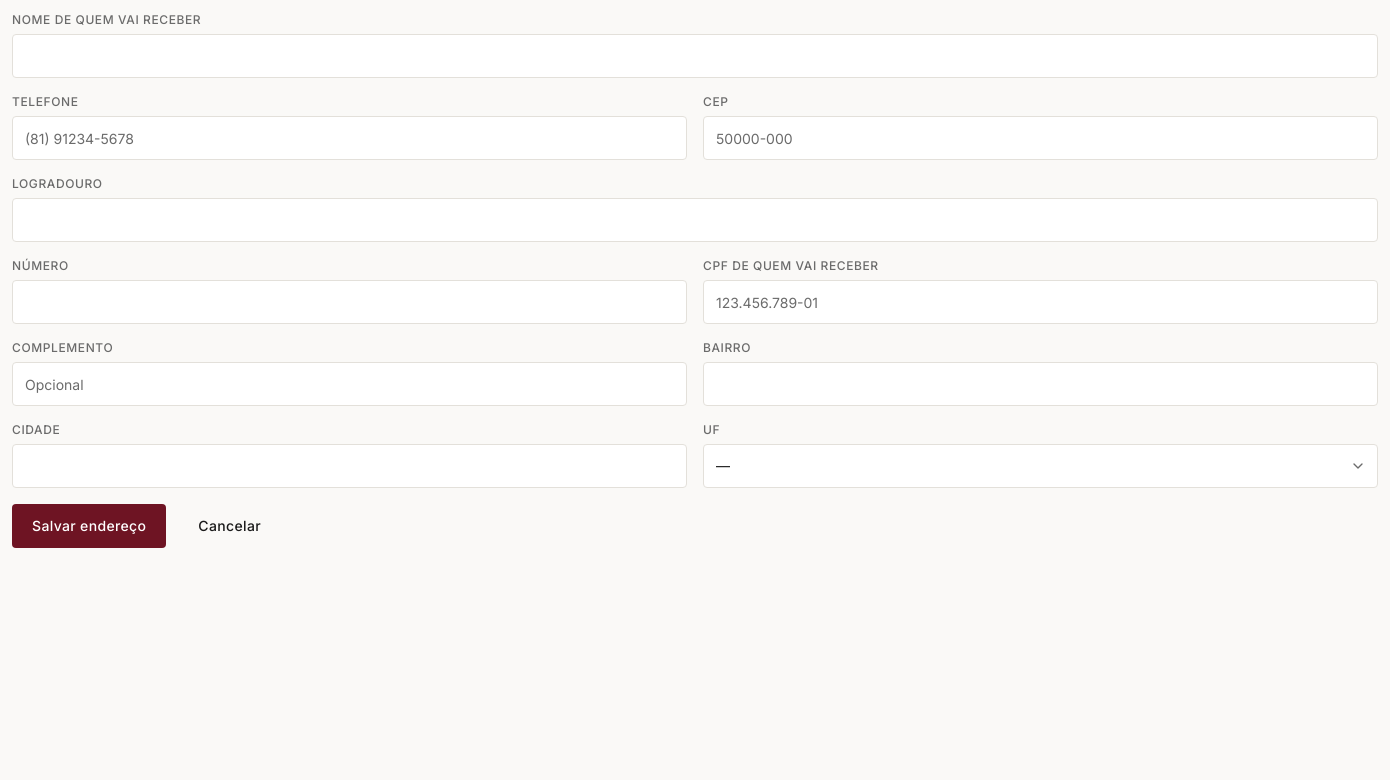
Test case: AddressForm › nao envia e mostra erros quando ha campos obrigatorios vazios
This screenshot has width=1390, height=780.
Click the button "Salvar endereço" at coordinates (89, 526), box [12, 504, 166, 548]
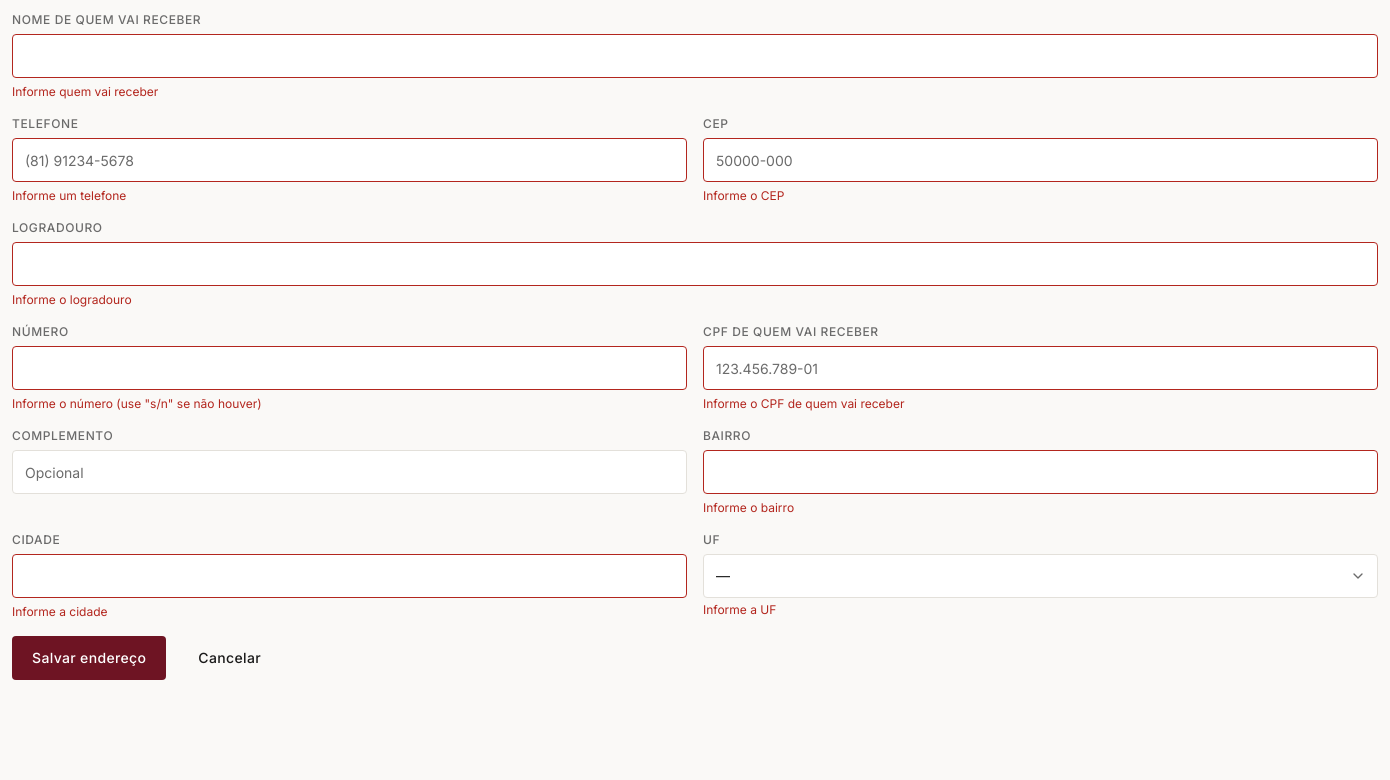
Expected: the text "Informe quem vai receber" is shown, [12, 84, 158, 99]
